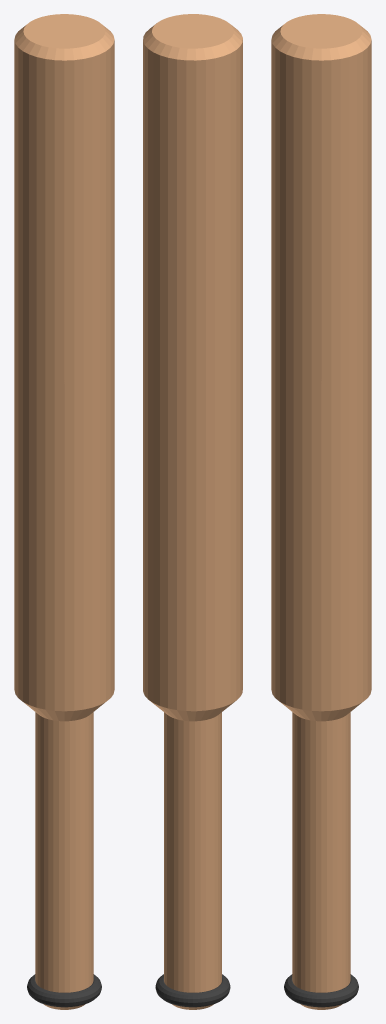
The model's file is bat.fbx.
The picture shows the model from 3 angles, left to right: view 1: azimuth 90°, elevation 25°; view 2: azimuth 150°, elevation 25°; view 3: azimuth 270°, elevation 25°; orthographic projection.
Parts seen in each view (by area): view 1: Cylinder, Torus; view 2: Cylinder, Torus; view 3: Cylinder, Torus.
Part boxes in pixels (bbox=[...]): Cylinder: bbox=[14, 14, 114, 1009]; Torus: bbox=[27, 974, 101, 1007]; Cylinder: bbox=[143, 14, 242, 1009]; Torus: bbox=[155, 974, 230, 1007]; Cylinder: bbox=[271, 14, 371, 1009]; Torus: bbox=[284, 974, 358, 1007].
Size of the model in its own units: 200 by 2136 by 200.
